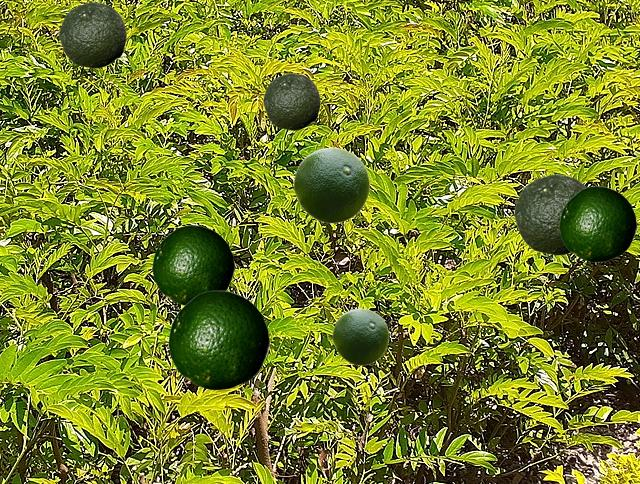calamansi: (168, 290, 269, 389), (152, 225, 234, 305), (559, 186, 636, 261), (514, 174, 586, 254), (293, 147, 369, 222), (59, 2, 125, 67), (263, 73, 319, 129), (332, 308, 388, 364)
